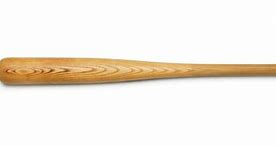bat: (1, 56, 275, 87)
